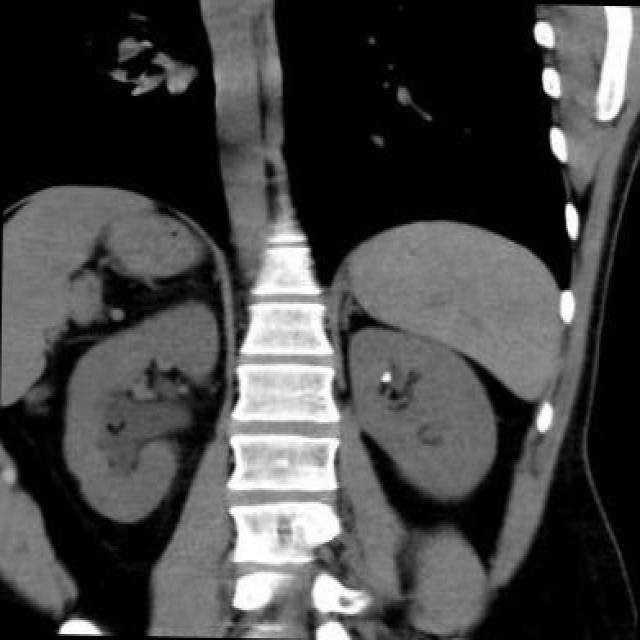Tas_Var: (377, 368, 394, 384)
